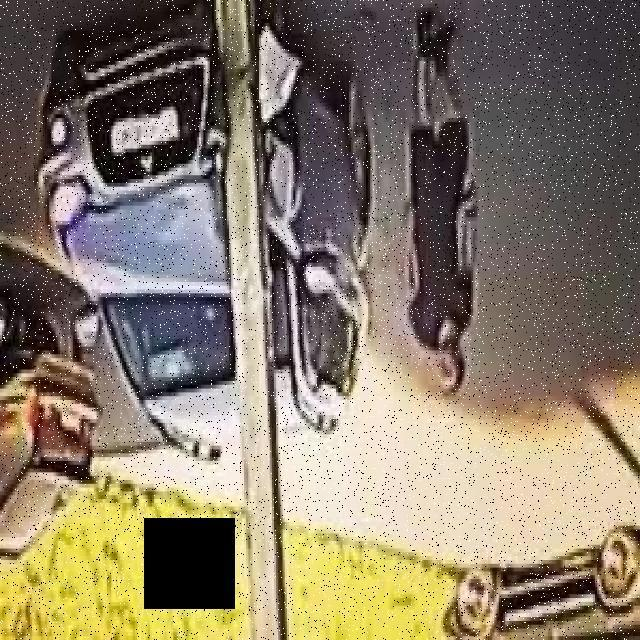vehicle: (59, 2, 372, 468)
